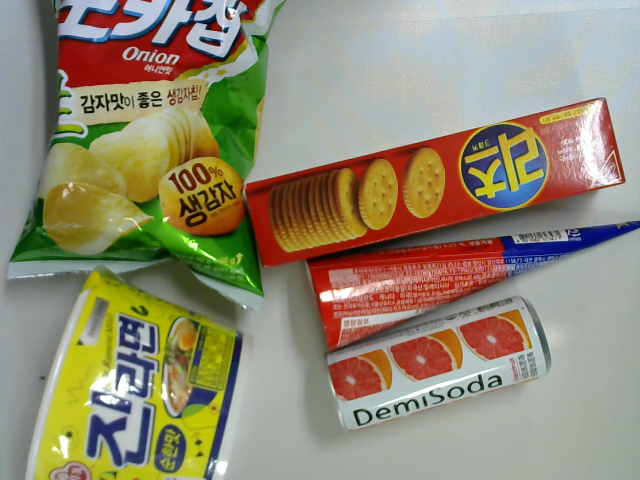Demisoda_Grapefruit_Can_250ml: (317, 293, 554, 435)
Jinlamyeon_Mild_Taste_Large_Cup: (13, 263, 260, 480)
Pocachip_Onion: (2, 1, 293, 318)
Ritz_Cracker: (243, 89, 631, 270)
World_Cone_Banila: (299, 207, 640, 357)
